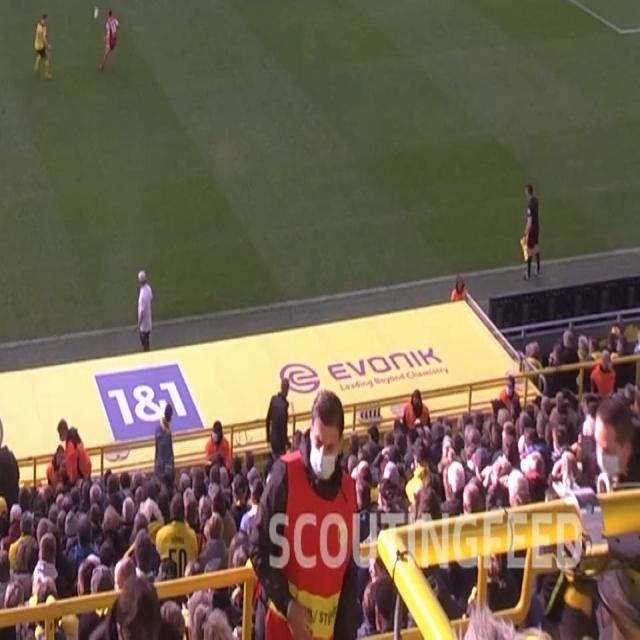ball: (93, 5, 100, 20)
